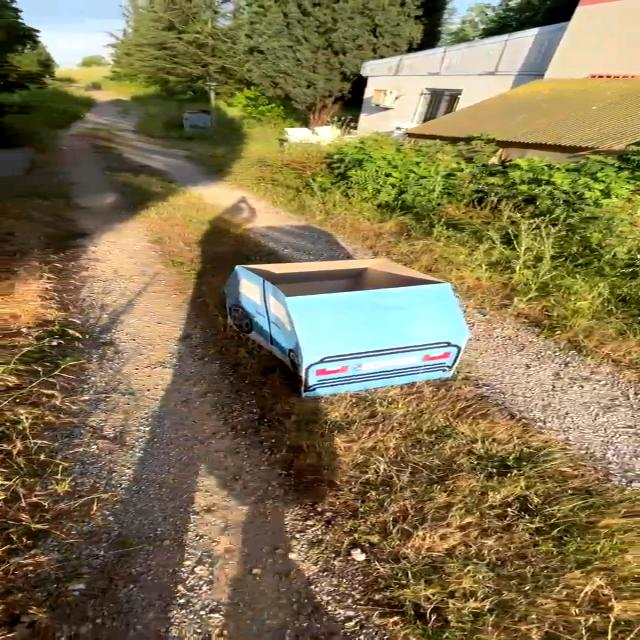blue_car: (199, 232, 484, 415)
